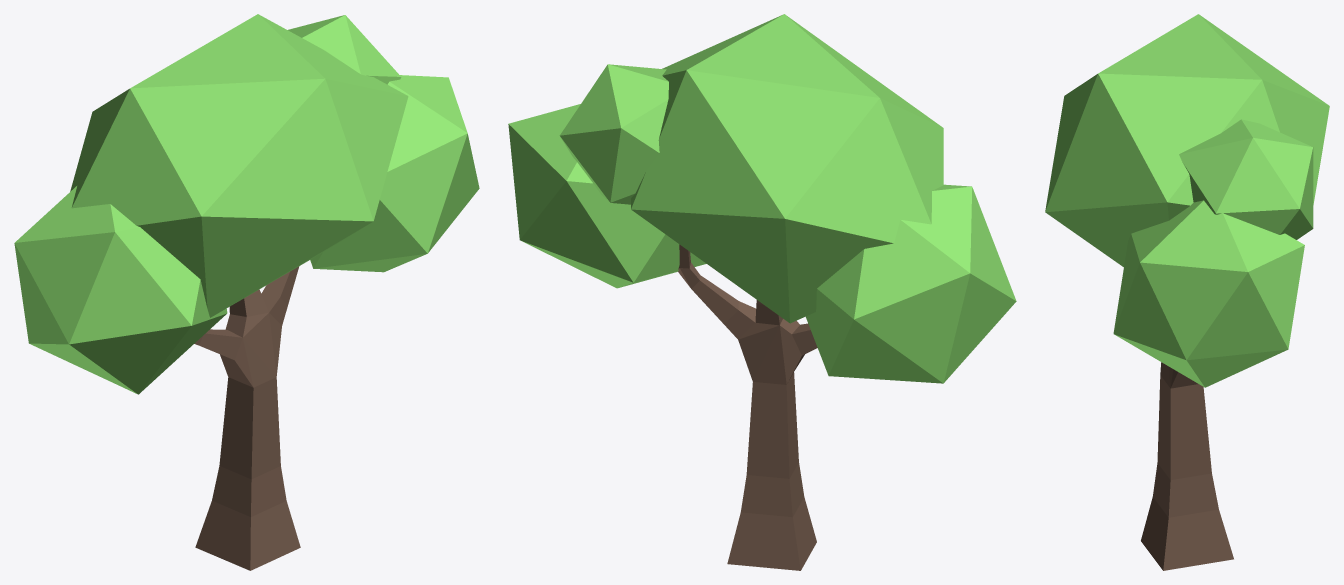
File: tree_2.fbx
The picture shows the model from 3 angles, left to right: view 1: azimuth 30°, elevation 25°; view 2: azimuth 150°, elevation 25°; view 3: azimuth 270°, elevation 25°; orthographic projection.
Parts seen in each view (by area): view 1: tree2; view 2: tree2; view 3: tree2.
Part boxes in pixels (x1,y1,x2,y2): tree2: (14,14,479,570); tree2: (508,14,1016,570); tree2: (1045,14,1329,570).
Bounding box in the file's own units: 4.36 × 2.42 × 4.63.
